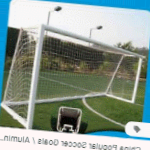goals: (3, 24, 144, 126)
